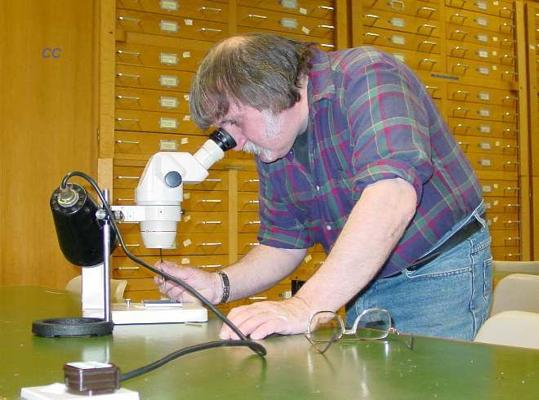person: (156, 36, 494, 343)
